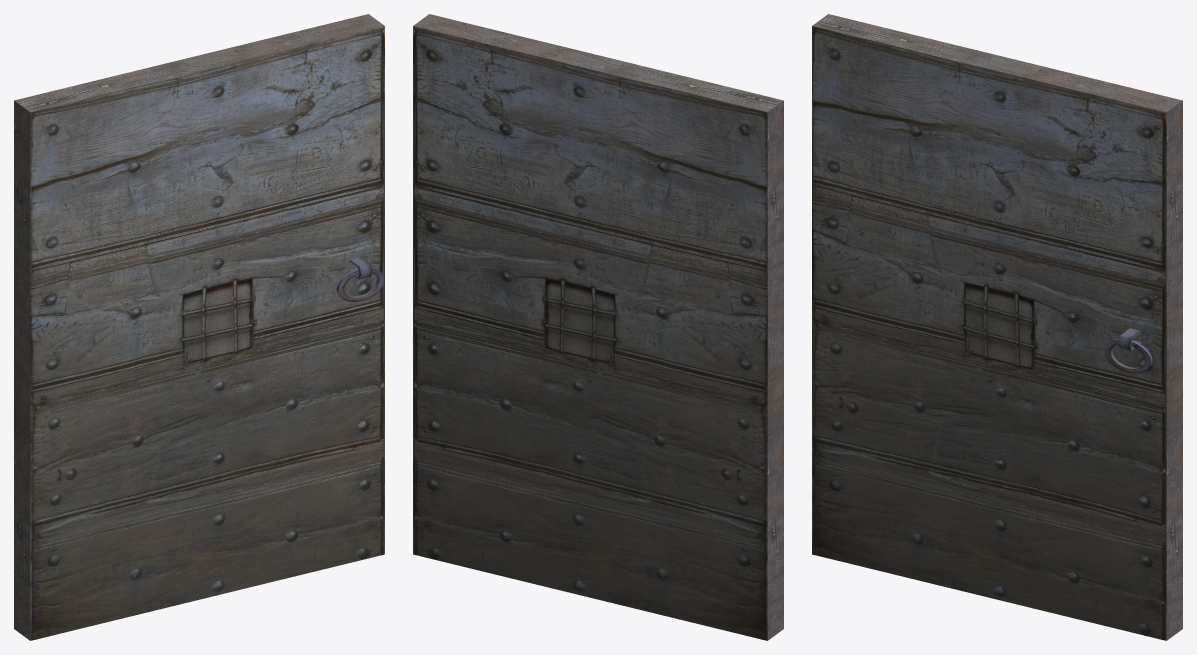
File: Door_O.fbx
3 renders of one model, left to right at view 1: azimuth 30°, elevation 25°; view 2: azimuth 150°, elevation 25°; view 3: azimuth 330°, elevation 25°, orthographic.
Parts seen in each view (by area): view 1: Door_O; view 2: Door_O; view 3: Door_O.
Part boxes in pixels (x1,y1,x2,y2): Door_O: [14, 14, 384, 640]; Door_O: [413, 14, 783, 640]; Door_O: [812, 14, 1182, 640].
Bounding box in the file's own units: 3.79 × 5.4 × 0.53.
Materials: 1 (1 with a texture image).
